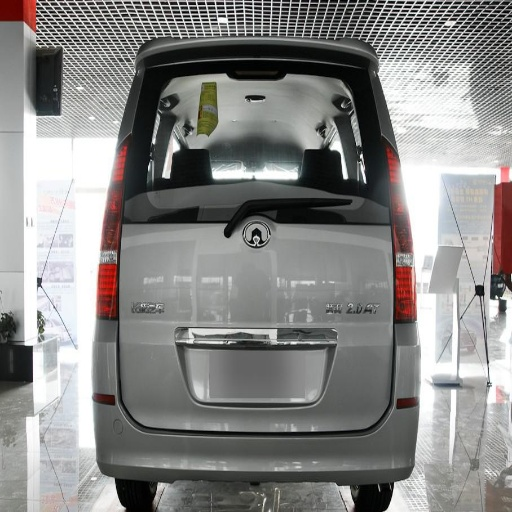back_bumper: (98, 325, 429, 510)
back_glass: (127, 95, 366, 194)
tailgate: (120, 298, 386, 430)
trunk: (127, 187, 393, 418), (125, 362, 203, 421)
